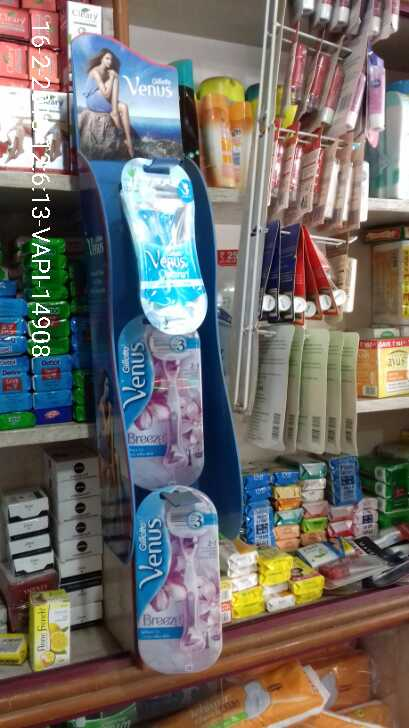venus: (107, 322, 216, 493), (137, 490, 223, 678), (121, 156, 214, 325)
